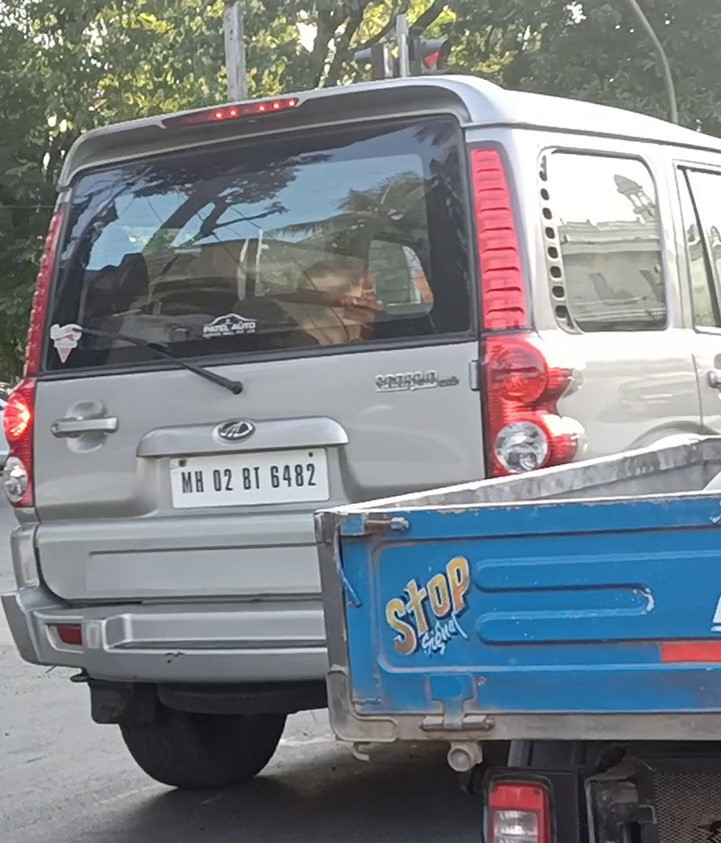MH02BT6482: (167, 447, 332, 509)
